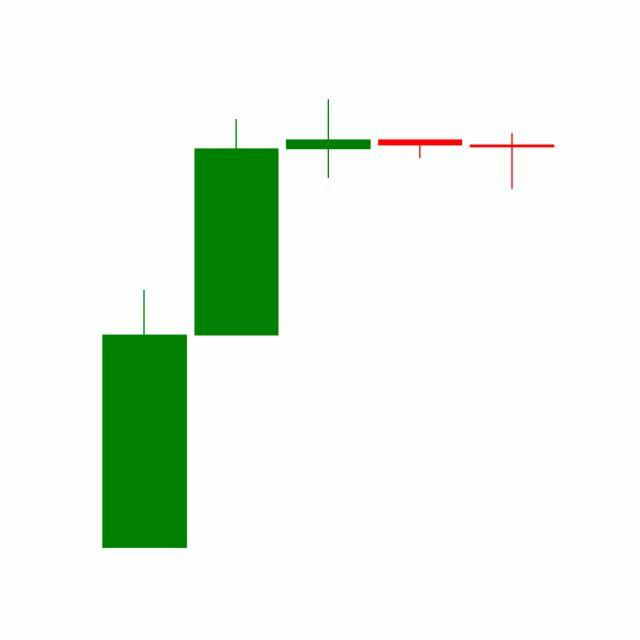Hammer: (374, 139, 468, 159)
